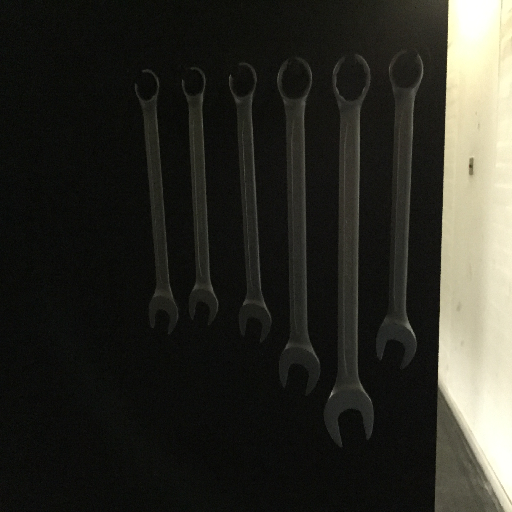bottom: (321, 382, 376, 448), (276, 339, 322, 397), (374, 314, 417, 371), (146, 288, 180, 336), (237, 299, 273, 344), (188, 285, 220, 326)
top: (330, 52, 373, 109), (275, 53, 314, 109), (387, 48, 425, 97), (225, 60, 261, 105), (132, 64, 162, 105), (179, 64, 209, 103)
